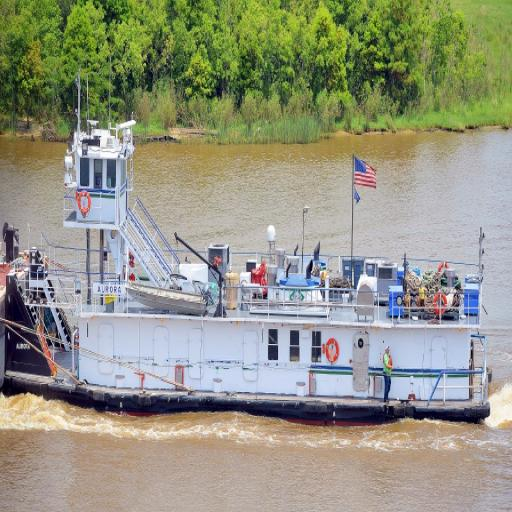tugboat: (3, 116, 494, 436)
